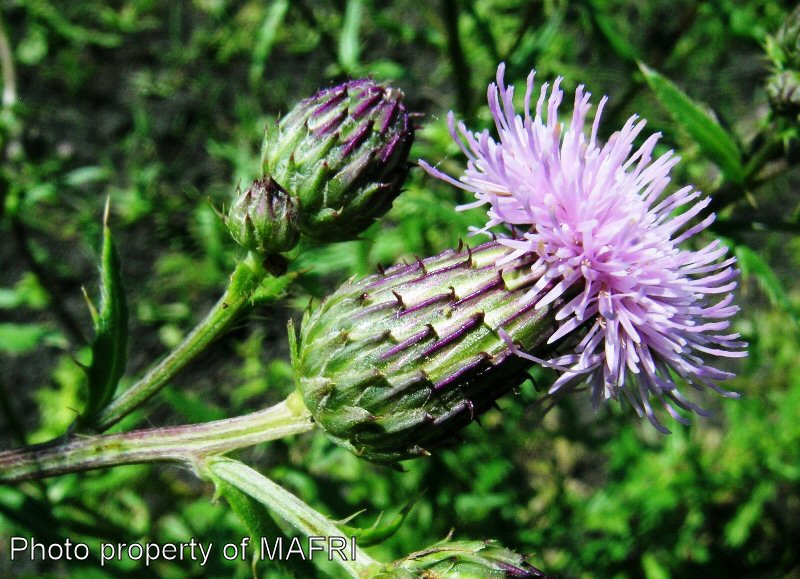thistle: (346, 74, 745, 482)
